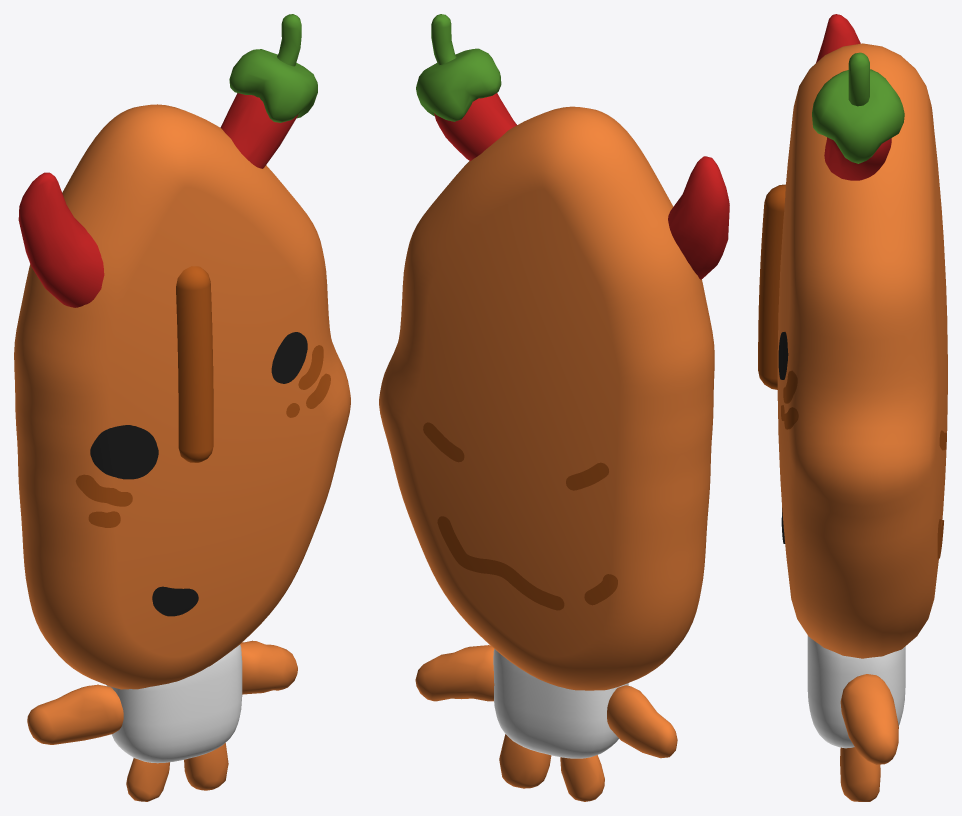
Rendered from hwa_b.glb.
The picture shows the model from 3 angles, left to right: view 1: azimuth 30°, elevation 25°; view 2: azimuth 150°, elevation 25°; view 3: azimuth 270°, elevation 25°; orthographic projection. The views are drawn at different scales.
Visible parts, largest first — view 1: 화떼링B_lowpoly_color; view 2: 화떼링B_lowpoly_color; view 3: 화떼링B_lowpoly_color.
Part boxes in pixels (left/top/right/bottom): 화떼링B_lowpoly_color: left=14, top=14, right=350, bottom=801; 화떼링B_lowpoly_color: left=379, top=14, right=729, bottom=801; 화떼링B_lowpoly_color: left=758, top=14, right=947, bottom=801.
Size of the model in its own units: 68.11 by 148 by 32.31.
